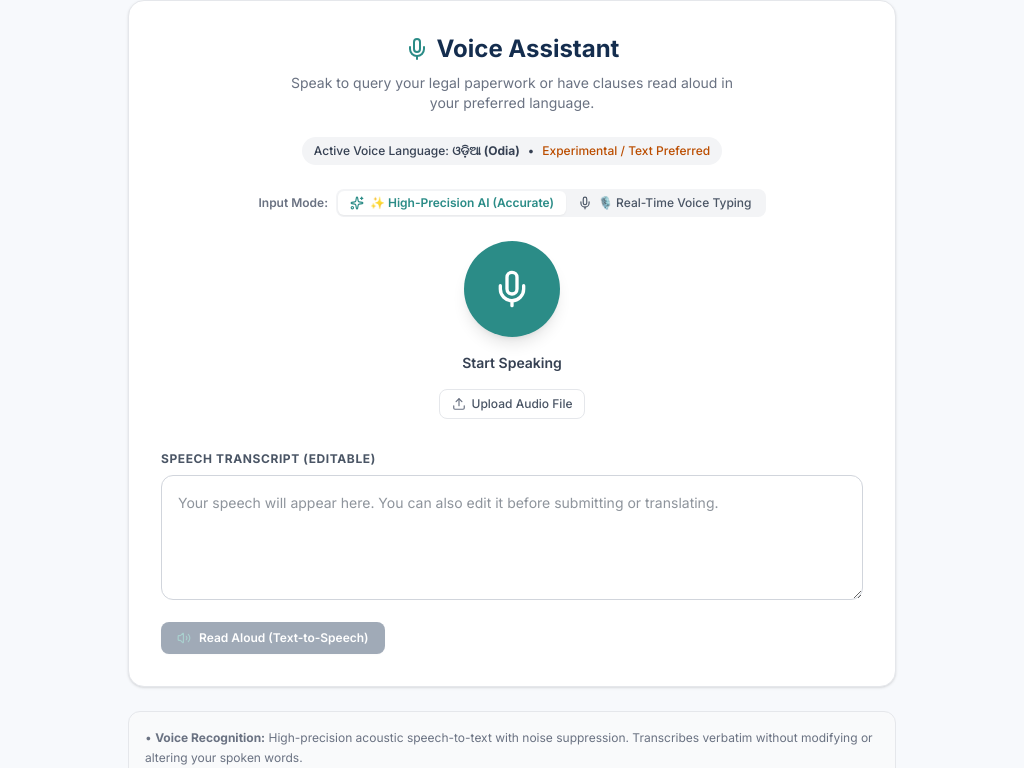
AI Legal Guardian Frontend Test Suite › truthfully reports voice capability limitations for unsupported languages
What coordinates should you click on to do the following:
click the button named "Start Speaking"
I would click on:
 (512, 289)
Its box is [464, 241, 560, 337].
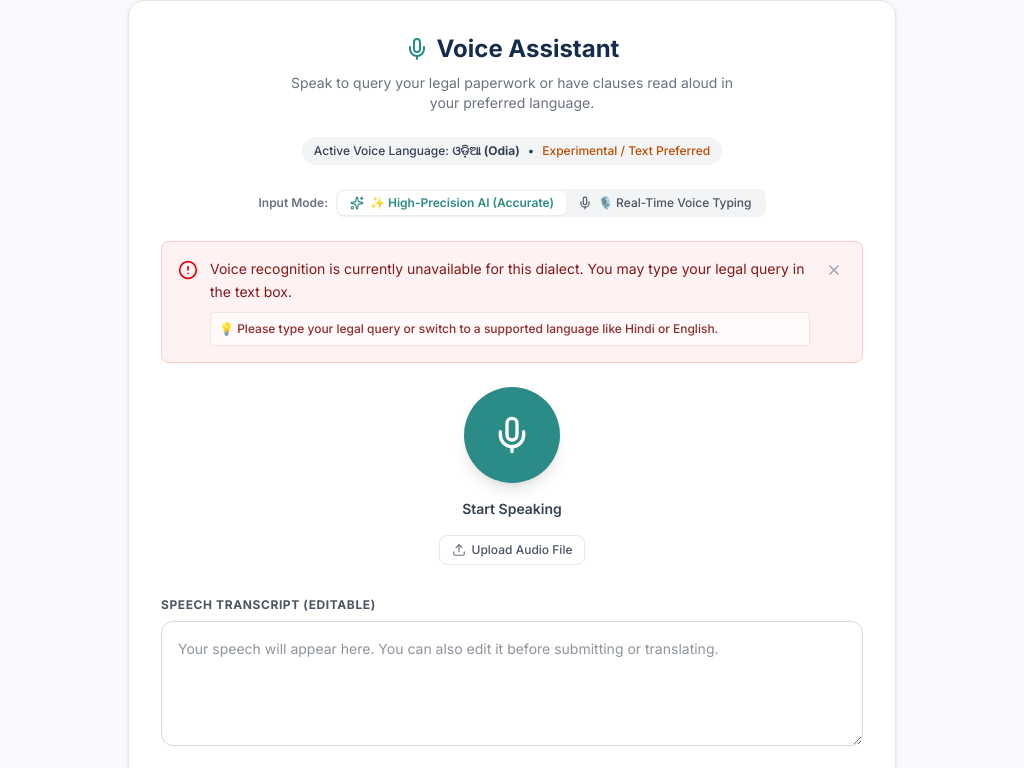
Expected: the text "Voice recognition is currently unavailable for this dialect" is shown, [210, 260, 804, 300]
